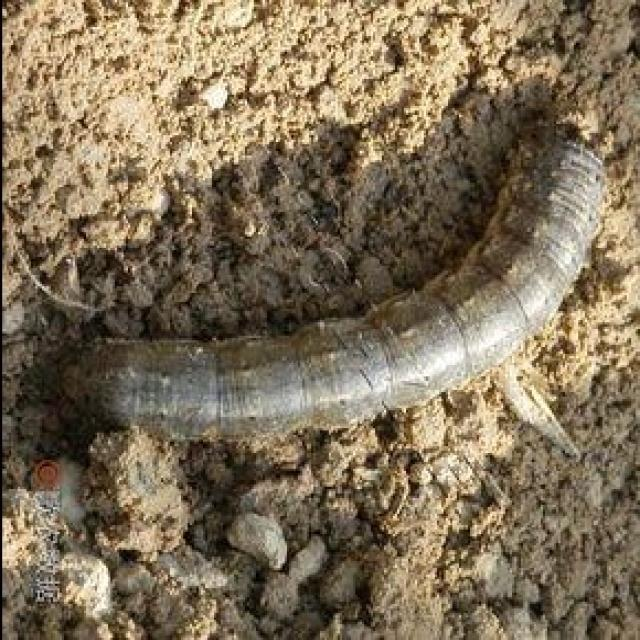black cutworm: (64, 106, 609, 446)
